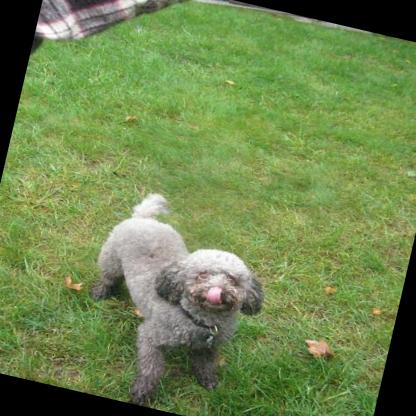miniature_poodle: (63, 181, 281, 416)
